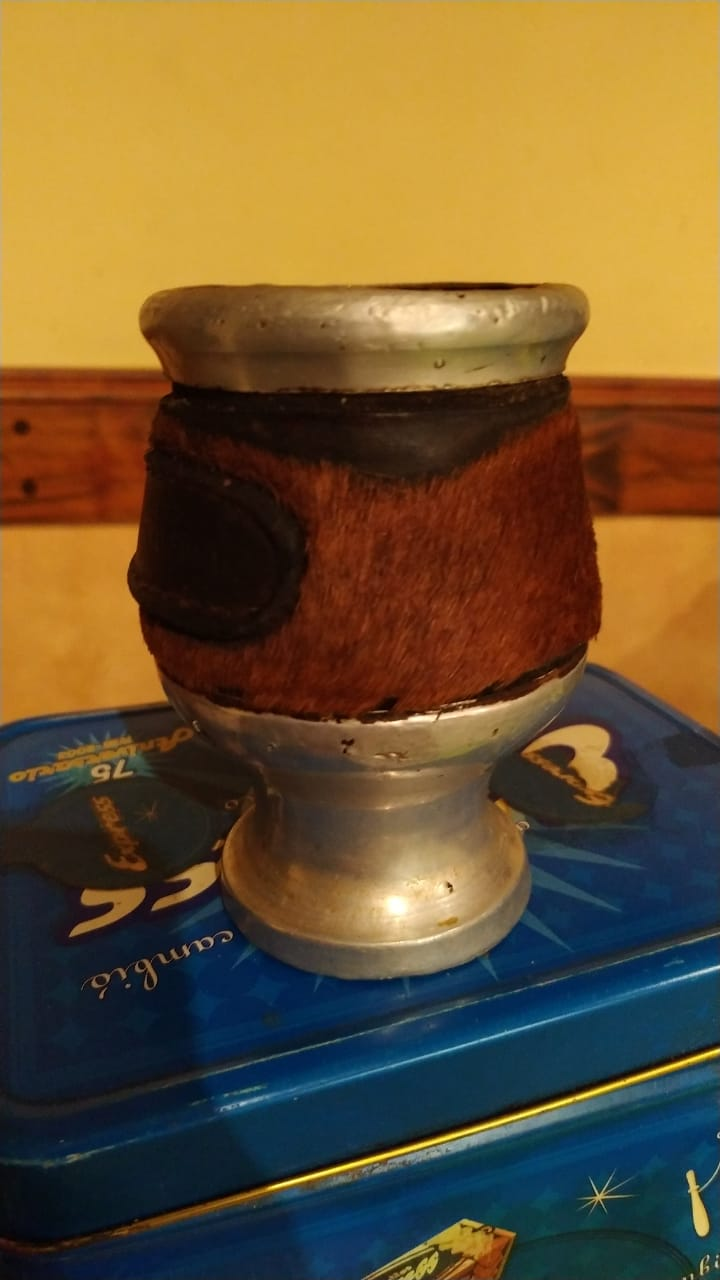mate: (118, 273, 609, 987)
metal: (116, 271, 607, 985)
